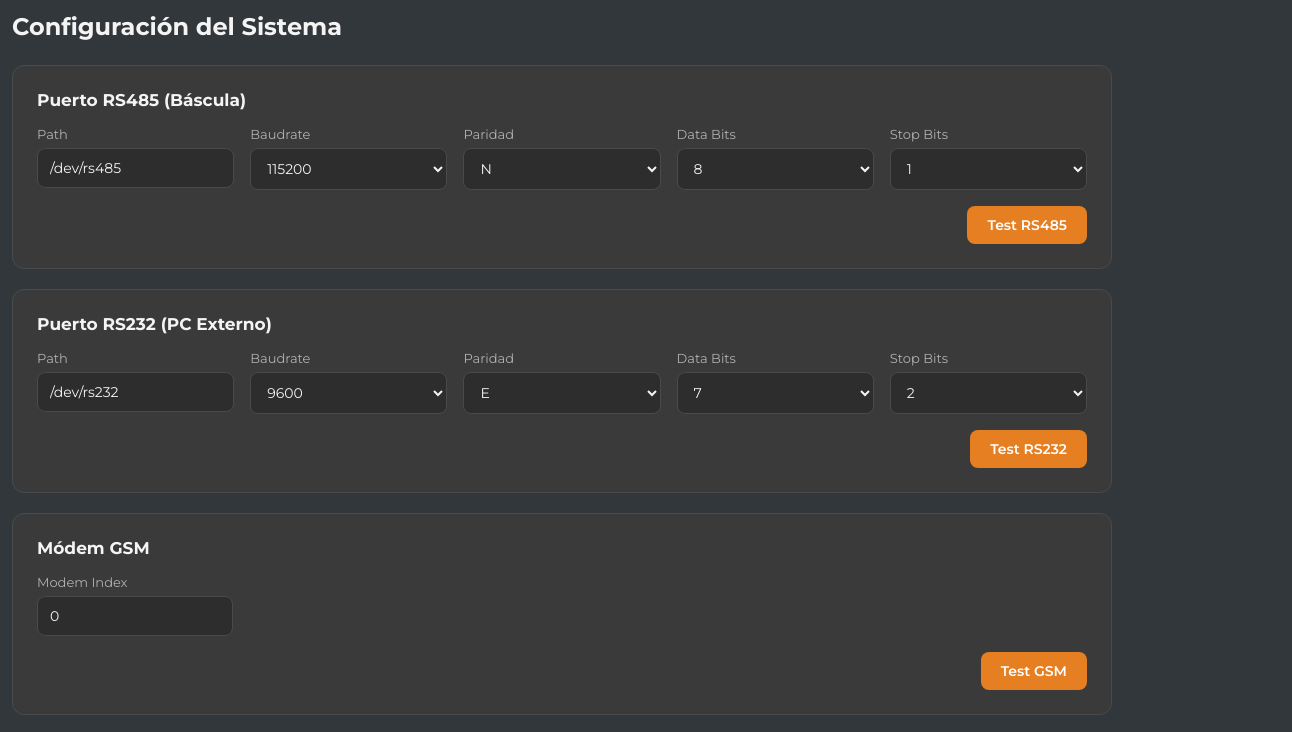
Test: AdminConfig › test de puerto (R4) › muestra 'Prueba exitosa' tras test ok
What coordinates should you click on to do the following:
click the button "Test RS485"
I would click on:
 (1027, 225)
Its box is [968,206,1087,244].
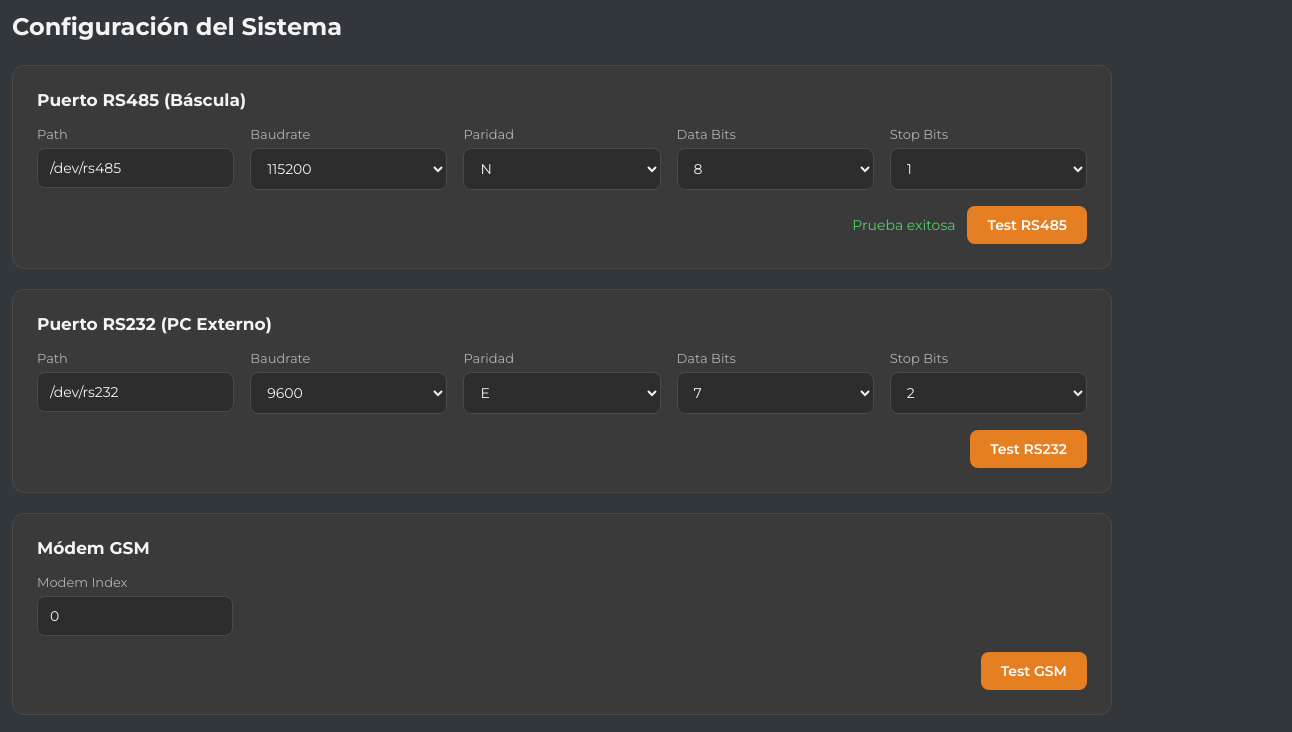
Check: the text "Prueba exitosa" is shown, box [852,216,956,234]
